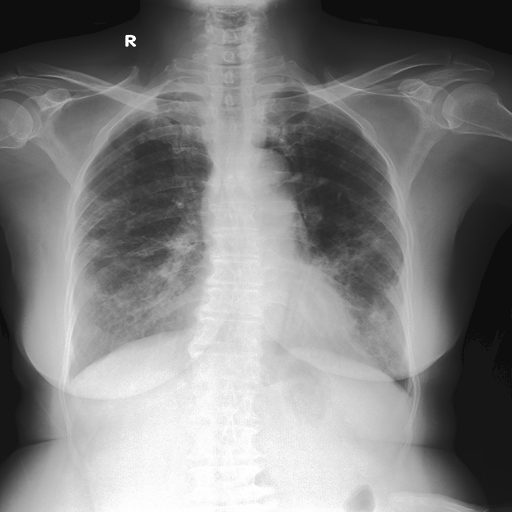Cardiomegaly: (72, 131, 202, 375), (294, 142, 406, 365)
Consolidation: (234, 146, 296, 201)
ILD: (75, 187, 203, 327), (325, 198, 404, 333)
Pneumothorax: (284, 172, 303, 183), (312, 176, 331, 185)
